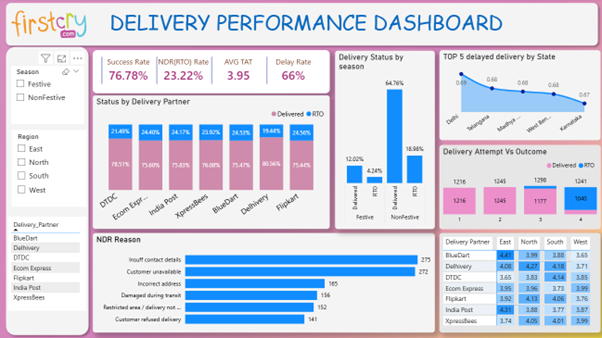

What the dashboard file says about the page in this screenshot:
{"tool":"powerbi","page":{"name":"Page 1","canvas":[1280,720],"ordinal":0},"visuals":[{"type":"shape","box":[13.7,0,1266.6,108.4],"z":0},{"type":"textbox","box":[236,15.1,901.5,108.4],"z":1000},{"type":"image","box":[34.3,16.5,157.8,76.8],"z":2000},{"type":"shape","box":[13.7,93.3,192.1,627.1],"z":3000},{"type":"cardVisual","title":"Su","fields":{"Data":["DeliveryDATA.SuccessRate","DeliveryDATA.NDR_RTO_rate%","DeliveryDATA.AVG_TAT","DeliveryDATA.AvgLatedelivery"]},"box":[205.4,108.8,500,91],"z":4000},{"type":"hundredPercentStackedColumnChart","title":"Status by Delivery Partner","fields":{"Category":["DeliveryDATA.Delivery_Partner"],"Y":["CountNonNull(DeliveryDATA.Order_ID)"],"Series":["DeliveryDATA.Delivery_Status"]},"box":[205.4,204.2,500.1,282.5],"z":5000},{"type":"barChart","title":"NDR Reason","fields":{"Category":["DeliveryDATA.NDR_Reason"],"Y":["CountNonNull(DeliveryDATA.Order_ID)"]},"box":[205.4,495.2,721.5,210.3],"z":6000},{"type":"clusteredColumnChart","title":"Delivery Status by season","fields":{"Category":["DeliveryDATA.Season","DeliveryDATA.Delivery_Status"],"Y":["CountNonNull(DeliveryDATA.Season)"]},"box":[716.6,110.1,210.3,376.6],"z":7000},{"type":"areaChart","title":"TOP 5 delayed delivery by State","fields":{"Y":["Avg(DeliveryDATA.lateDeliveryFlag)"],"Category":["DeliveryDATA.State"]},"box":[936.7,108.8,339.9,190.8],"z":8000},{"type":"lineStackedColumnComboChart","title":"Delivery Attempt Vs Outcome ","fields":{"Category":["DeliveryDATA.Delivery_Attempts"],"Y":["CountNonNull(DeliveryDATA.Order_ID)"],"Series":["DeliveryDATA.Delivery_Status"]},"box":[936.7,309.4,339.9,177.3],"z":9000},{"type":"pivotTable","fields":{"Columns":["DeliveryDATA.Region"],"Rows":["DeliveryDATA.Delivery_Partner"],"Values":["DeliveryDATA.AVG_TAT"]},"box":[936.7,495.2,339.9,210.3],"z":10000},{"type":"slicer","fields":{"Values":["DeliveryDATA.Season"]},"box":[31.8,140.6,157.7,126],"z":11000},{"type":"tableEx","fields":{"Values":["DeliveryDATA.Delivery_Partner"]},"box":[26.9,461,165.1,198.1],"z":12000},{"type":"slicer","fields":{"Values":["DeliveryDATA.Region"]},"box":[34.2,277.6,157.7,162.6],"z":13000}]}

Visuals, with their boxes in screenshot pixels (x1, y1, x2, y2), scaled from the page's 1280x720 canvas onto the 602x338 screenshot:
shape: box(6, 0, 601, 51)
textbox: box(111, 7, 535, 58)
image: box(16, 8, 90, 44)
shape: box(6, 44, 97, 337)
"Su" cardVisual: box(97, 51, 332, 94)
"Status by Delivery Partner" hundredPercentStackedColumnChart: box(97, 96, 332, 228)
"NDR Reason" barChart: box(97, 232, 436, 331)
"Delivery Status by season" clusteredColumnChart: box(337, 52, 436, 228)
"TOP 5 delayed delivery by State" areaChart: box(441, 51, 600, 141)
"Delivery Attempt Vs Outcome " lineStackedColumnComboChart: box(441, 145, 600, 228)
pivotTable - DeliveryDATA.Region x DeliveryDATA.Delivery_Partner: box(441, 232, 600, 331)
slicer - DeliveryDATA.Season: box(15, 66, 89, 125)
tableEx - DeliveryDATA.Delivery_Partner: box(13, 216, 90, 309)
slicer - DeliveryDATA.Region: box(16, 130, 90, 207)
